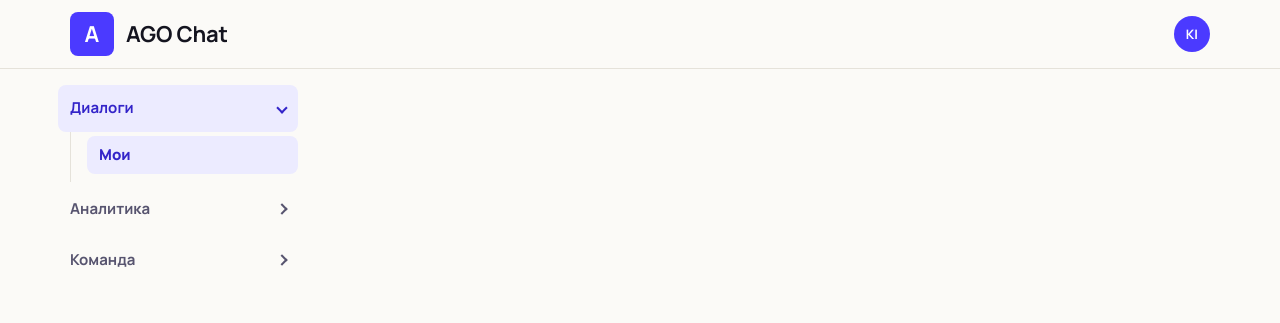
Test case: the user menu's tenant switcher › reuses a previously persisted choice as the active tenancy the header names
Click the button with class "ago-user-menu__trigger".
click(1192, 34)  # box [1174,16,1210,52]
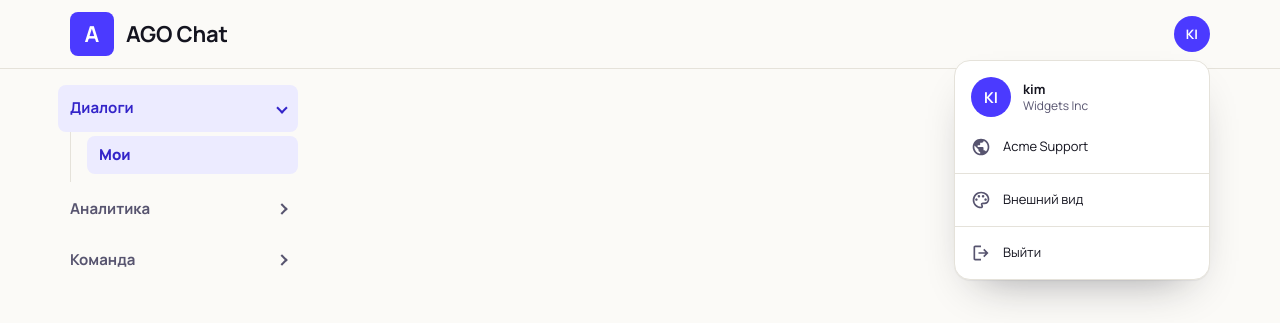
Expected: the text with class "ago-user-menu__header-tenant" reads "Widgets Inc", [1023,97,1088,114]
